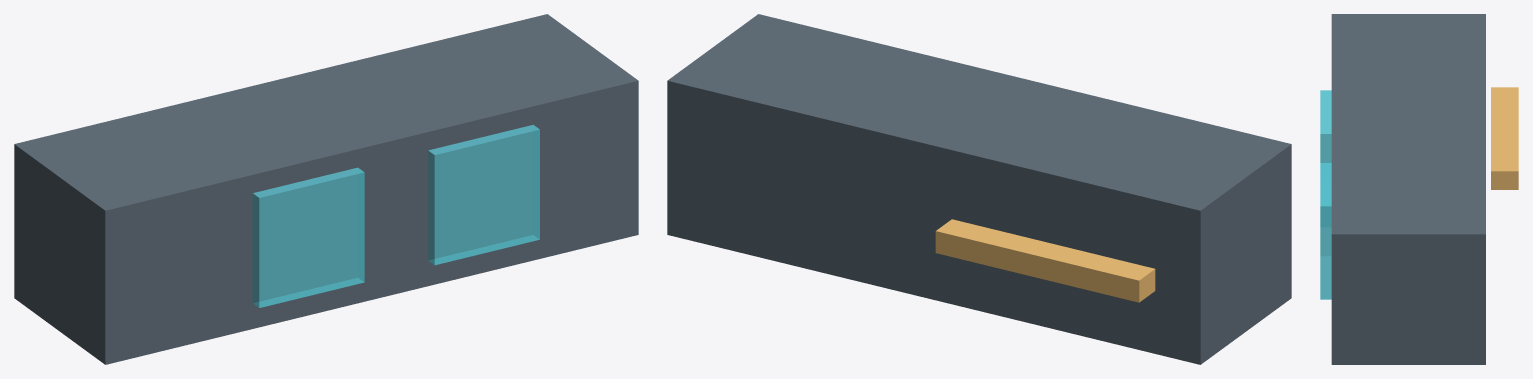
3 renders of one model, left to right at view 1: azimuth 30°, elevation 25°; view 2: azimuth 150°, elevation 25°; view 3: azimuth 270°, elevation 25°, orthographic. The views are drawn at different scales.
Parts seen in each view (by area): view 1: gpu shroud, gpu fan visual a, gpu fan visual b; view 2: gpu shroud, pcie connector; view 3: gpu shroud, pcie connector, gpu fan visual b, gpu fan visual a.
Boxes of the visible parts, x1=… form: gpu shroud: x1=14, y1=14, x2=638, y2=364; gpu fan visual a: x1=252, y1=167, x2=364, y2=307; gpu fan visual b: x1=428, y1=124, x2=539, y2=265; gpu shroud: x1=667, y1=14, x2=1291, y2=364; pcie connector: x1=935, y1=219, x2=1155, y2=302; gpu shroud: x1=1331, y1=14, x2=1485, y2=364; pcie connector: x1=1491, y1=87, x2=1518, y2=189; gpu fan visual b: x1=1320, y1=163, x2=1331, y2=299; gpu fan visual a: x1=1320, y1=90, x2=1331, y2=162.
Bounding box in the file's own units: 1.52 × 0.42 × 0.5775.
